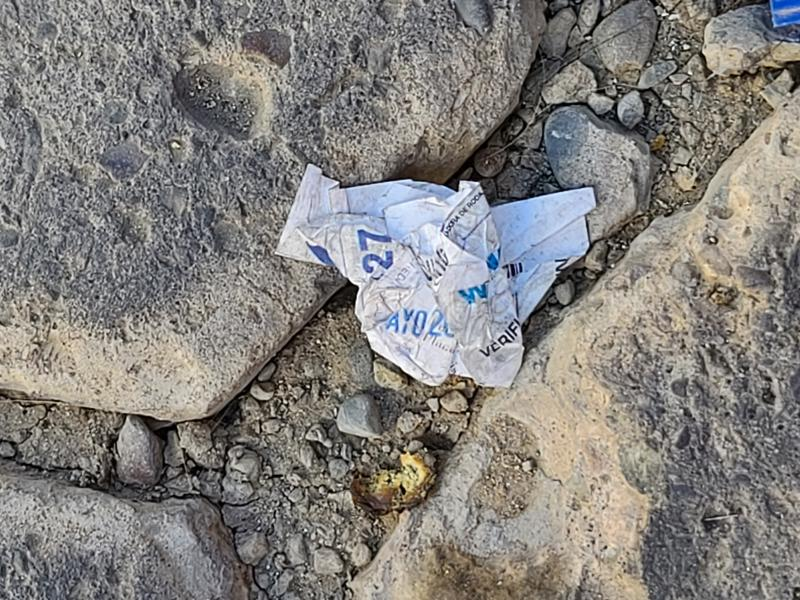papel: (274, 169, 601, 390)
